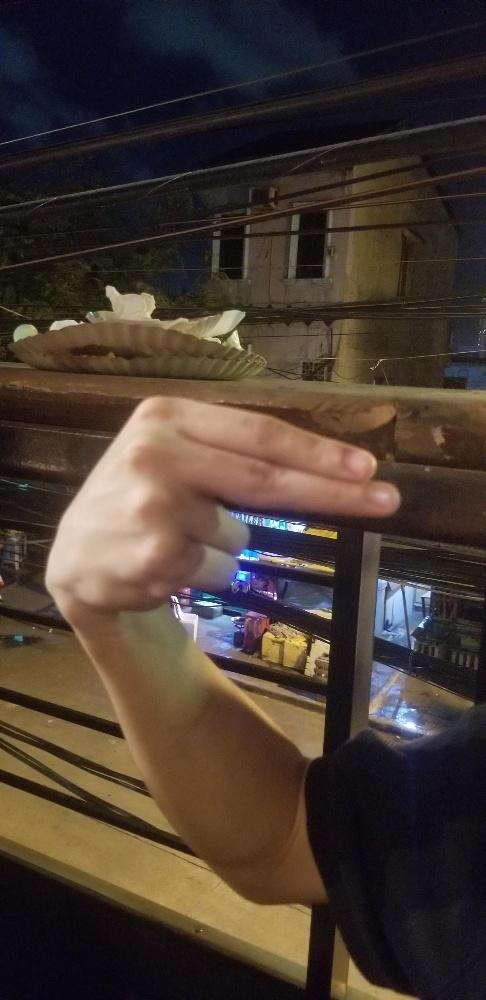h: (41, 391, 404, 616)
